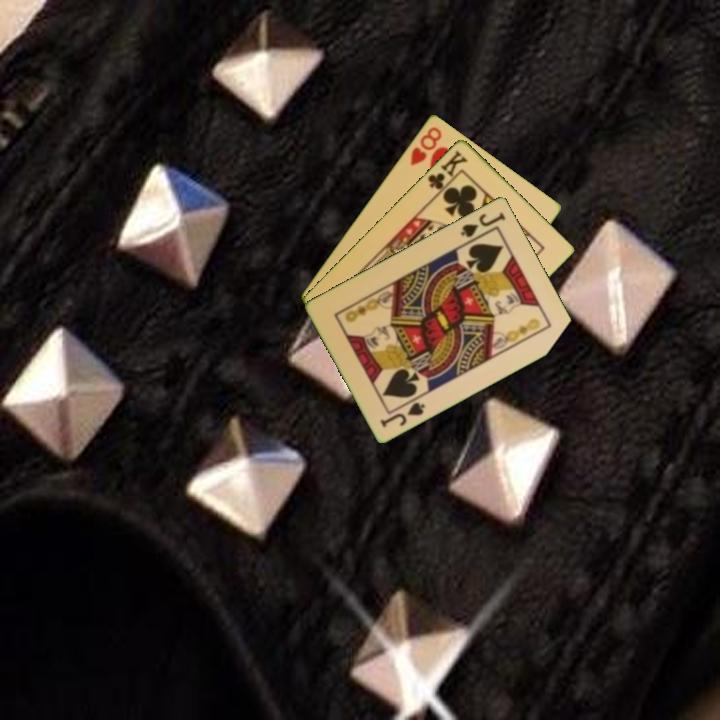8h: (406, 123, 445, 168)
Js: (457, 208, 509, 240), (377, 398, 428, 430)
Kc: (424, 146, 471, 197)
